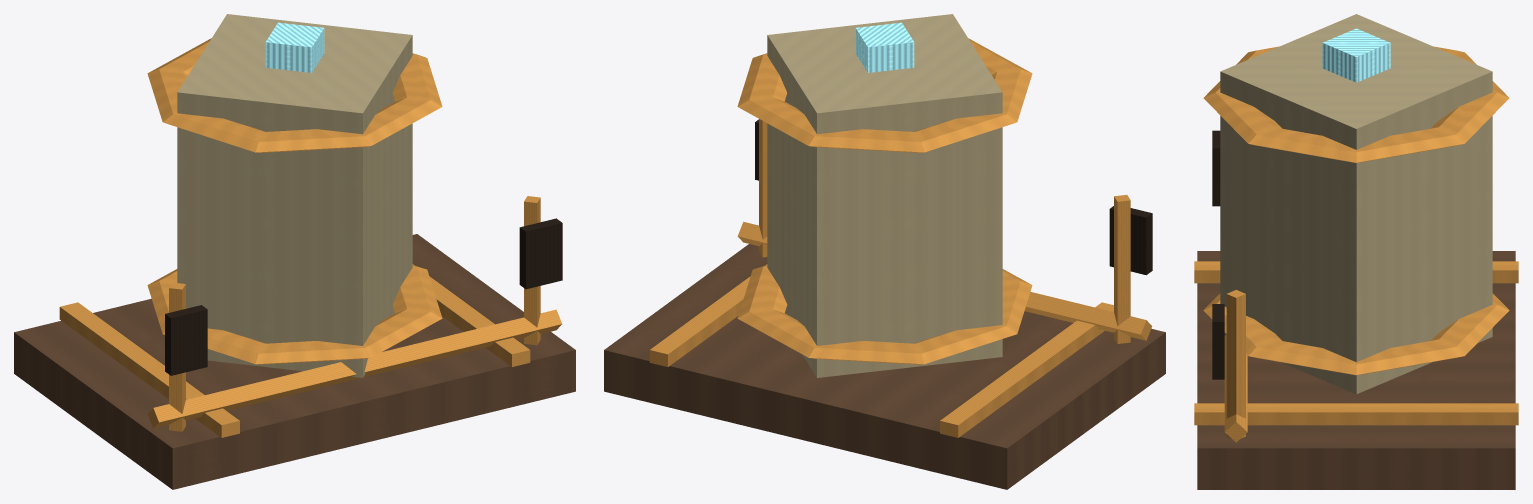
Rendered from atlas100-s019-a04.lod2.glb.
3 views of the same model, side by side, from view 1: azimuth 30°, elevation 25°; view 2: azimuth 150°, elevation 25°; view 3: azimuth 270°, elevation 25° (orthographic).
Visible parts, largest first — view 1: atlas100-s019-a04:part-003, atlas100-s019-a04:part-000, atlas100-s019-a04:part-005, atlas100-s019-a04:part-011, atlas100-s019-a04:part-004, atlas100-s019-a04:part-001, atlas100-s019-a04:part-010, atlas100-s019-a04:part-008, atlas100-s019-a04:part-006, atlas100-s019-a04:part-002, atlas100-s019-a04:part-007, atlas100-s019-a04:part-009; view 2: atlas100-s019-a04:part-003, atlas100-s019-a04:part-000, atlas100-s019-a04:part-005, atlas100-s019-a04:part-004, atlas100-s019-a04:part-001, atlas100-s019-a04:part-011, atlas100-s019-a04:part-002, atlas100-s019-a04:part-006, atlas100-s019-a04:part-007, atlas100-s019-a04:part-008, atlas100-s019-a04:part-009; view 3: atlas100-s019-a04:part-003, atlas100-s019-a04:part-000, atlas100-s019-a04:part-005, atlas100-s019-a04:part-002, atlas100-s019-a04:part-004, atlas100-s019-a04:part-006, atlas100-s019-a04:part-009, atlas100-s019-a04:part-001, atlas100-s019-a04:part-010, atlas100-s019-a04:part-011, atlas100-s019-a04:part-008.
Boxes of the visible parts, x1,y1,x2,y2 form: atlas100-s019-a04:part-003: (177,14,412,377); atlas100-s019-a04:part-000: (14,234,575,489); atlas100-s019-a04:part-005: (147,38,442,152); atlas100-s019-a04:part-011: (147,309,561,428); atlas100-s019-a04:part-004: (147,265,442,364); atlas100-s019-a04:part-001: (59,302,239,437); atlas100-s019-a04:part-010: (519,218,562,289); atlas100-s019-a04:part-008: (165,305,207,375); atlas100-s019-a04:part-006: (265,22,324,72); atlas100-s019-a04:part-002: (412,264,530,366); atlas100-s019-a04:part-007: (169,282,185,431); atlas100-s019-a04:part-009: (524,196,540,345); atlas100-s019-a04:part-003: (767,14,1002,377); atlas100-s019-a04:part-000: (604,244,1165,489); atlas100-s019-a04:part-005: (737,38,1032,152); atlas100-s019-a04:part-004: (737,265,1032,364); atlas100-s019-a04:part-001: (940,302,1113,437); atlas100-s019-a04:part-011: (737,221,1152,340); atlas100-s019-a04:part-002: (649,264,767,366); atlas100-s019-a04:part-006: (855,22,914,72); atlas100-s019-a04:part-007: (1114,195,1130,343); atlas100-s019-a04:part-008: (1109,206,1152,275); atlas100-s019-a04:part-009: (759,119,767,257); atlas100-s019-a04:part-003: (1220,14,1492,394); atlas100-s019-a04:part-000: (1197,251,1515,489); atlas100-s019-a04:part-005: (1203,46,1509,162); atlas100-s019-a04:part-002: (1194,403,1518,425); atlas100-s019-a04:part-004: (1203,293,1509,375); atlas100-s019-a04:part-006: (1322,28,1390,82); atlas100-s019-a04:part-009: (1226,290,1245,438); atlas100-s019-a04:part-001: (1194,261,1518,283); atlas100-s019-a04:part-010: (1212,304,1224,379); atlas100-s019-a04:part-011: (1224,335,1247,442); atlas100-s019-a04:part-008: (1212,130,1220,206).
Size of the model in its own units: 2.64 by 2.18 by 1.84.
5 materials, 5 textured.
